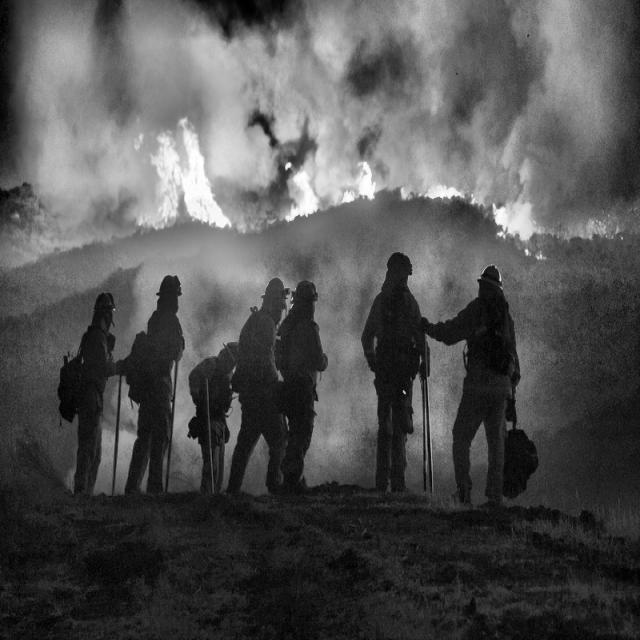fire: (106, 115, 485, 330)
